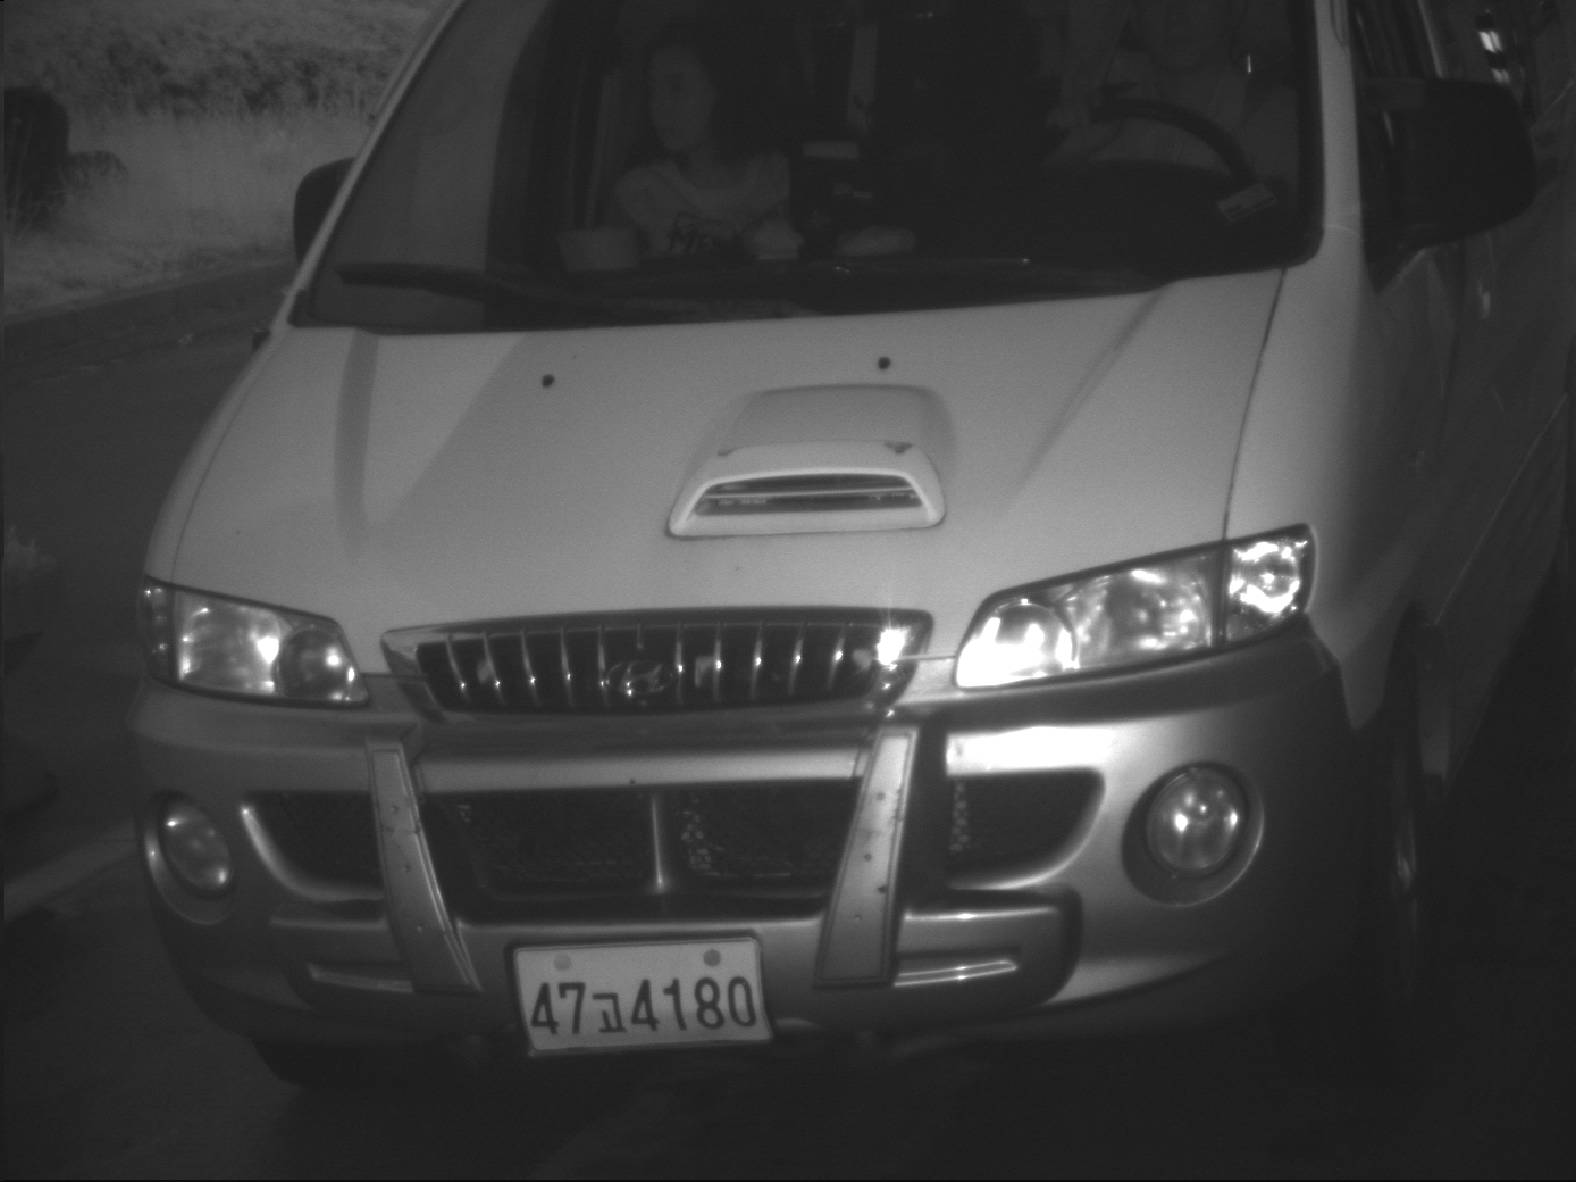car: (119, 2, 1576, 1092)
plate: (502, 932, 780, 1059)
